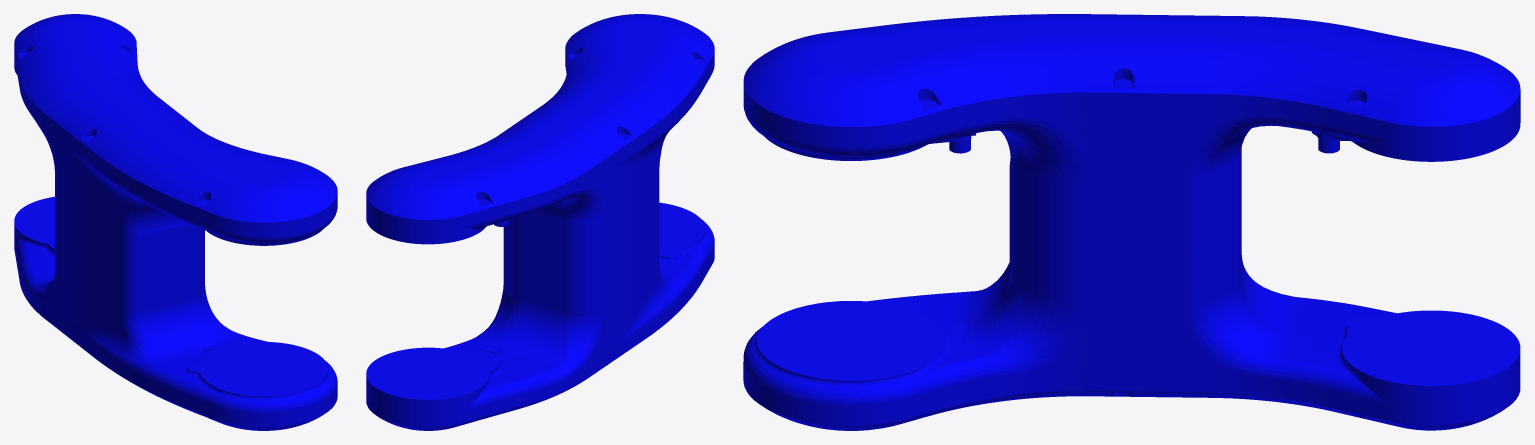
The model's file is yaskawa_link_2_l_visual_vis_1.dae.
3 views of the same model, side by side, from view 1: azimuth 30°, elevation 25°; view 2: azimuth 150°, elevation 25°; view 3: azimuth 270°, elevation 25° (orthographic). The views are drawn at different scales.
Visible parts, largest first — view 1: node; view 2: node; view 3: node.
Part boxes in pixels (<box>): node: <box>14,14,337,430</box>; node: <box>366,14,714,430</box>; node: <box>743,14,1520,430</box>.
Bounding box in the file's own units: 0.152 × 0.23 × 0.4619.
